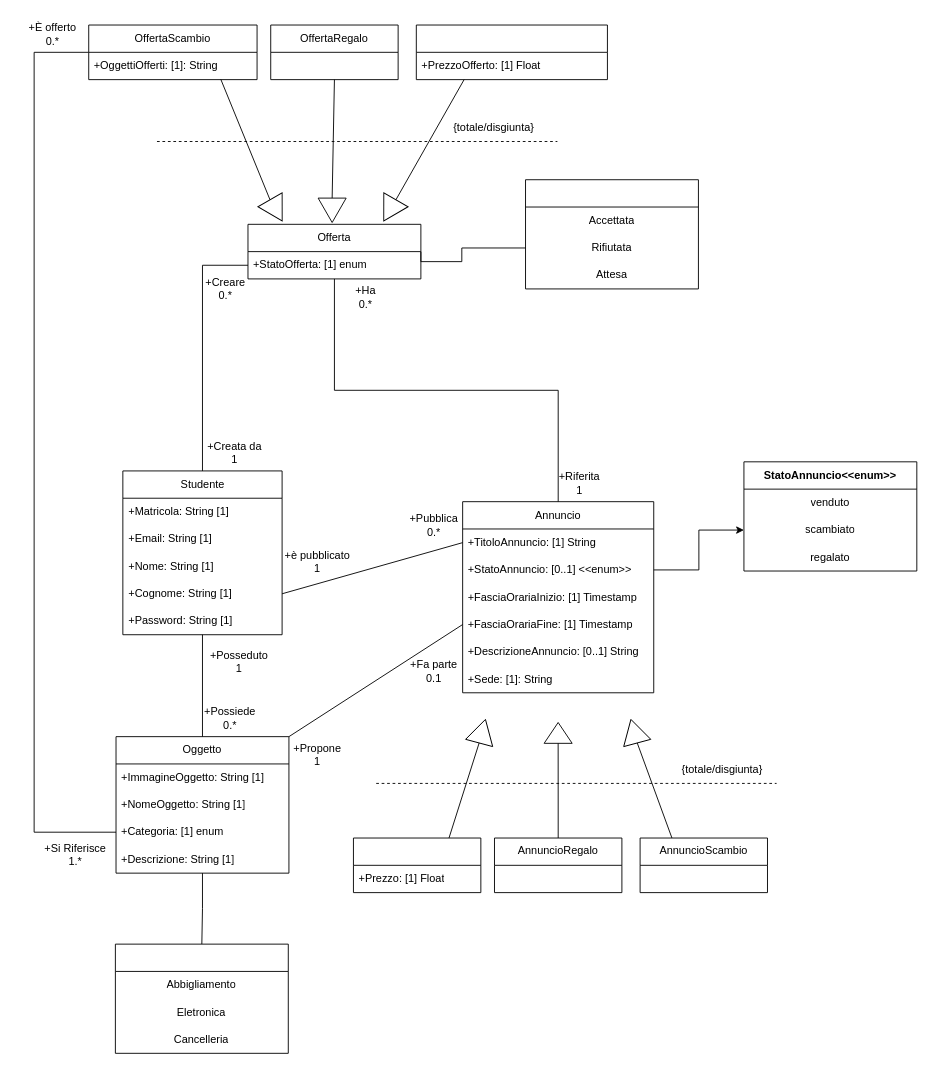
The diagram is 933 pixels wide and 1069 high, and some of its shapes have lost their labels. Here are the shapes that lost their labels. From the top down, the box of each, then its label:
(415, 24, 607, 80): OffertaAcquisto
(525, 179, 698, 289): StatoOfferta <<enum>>
(353, 837, 481, 893): AnnuncioVendita
(114, 943, 288, 1053): Categoria <<enum>>
